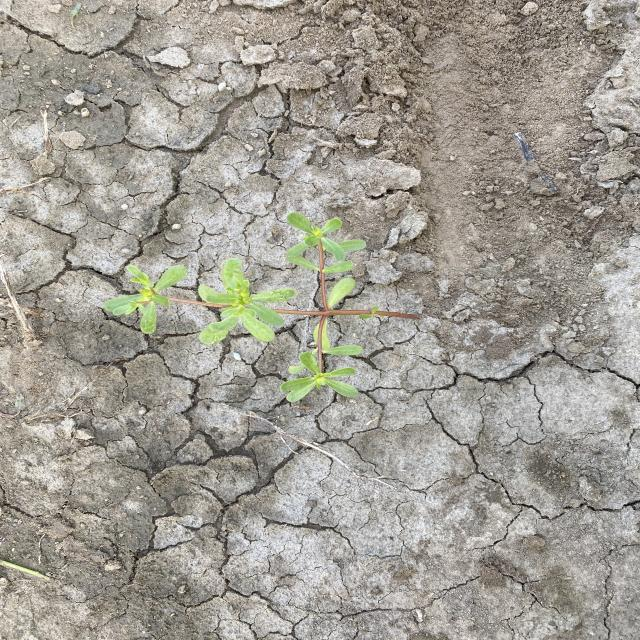Purslane: (101, 210, 425, 404)
